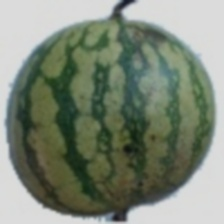watermelon: (38, 45, 207, 221)
